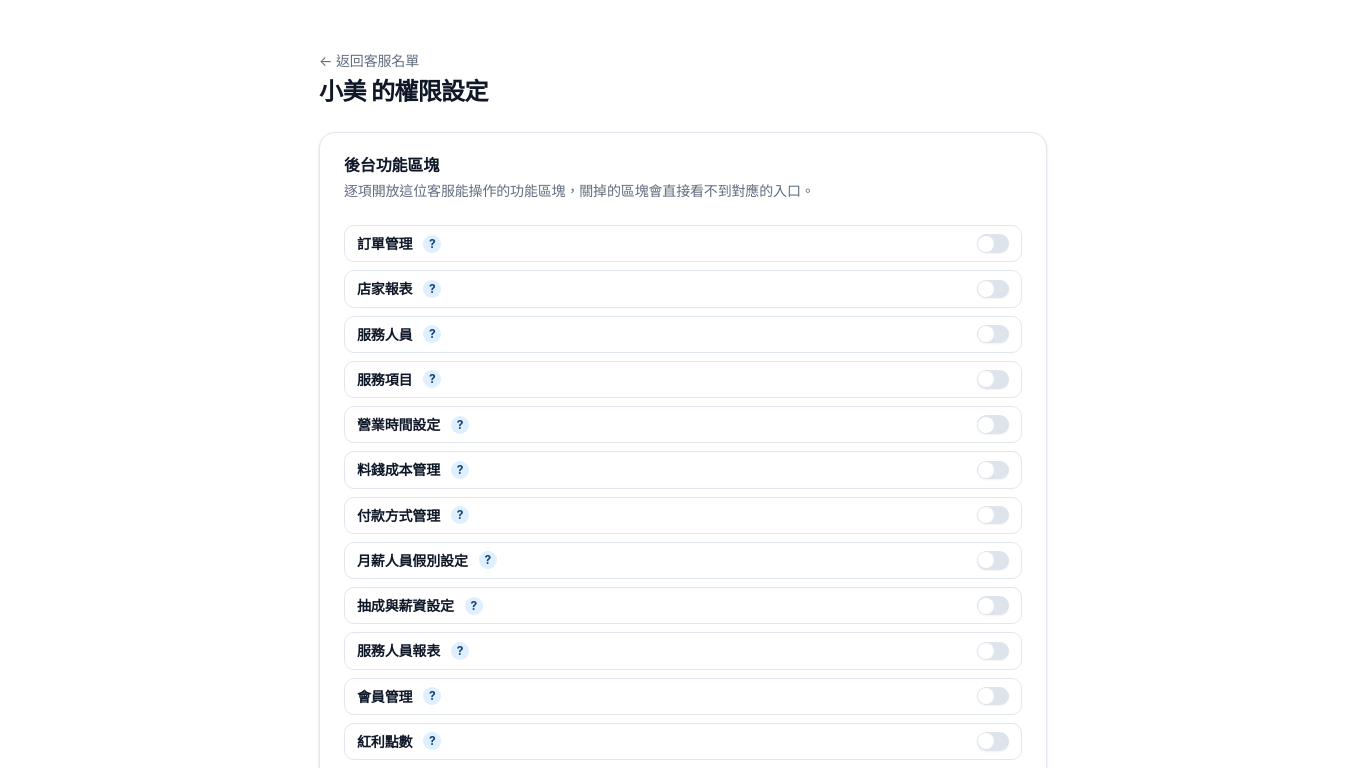
Test: 第 11 批 E:相依權限小卡窗 › ② 按「取消」⇒ 小卡窗關、三個開關都關、API 沒被呼叫;按 Esc 同結果
Click the switch named "料錢成本管理" in the row of "料錢成本管理". click: (993, 470)
box: [977,461,1009,479]
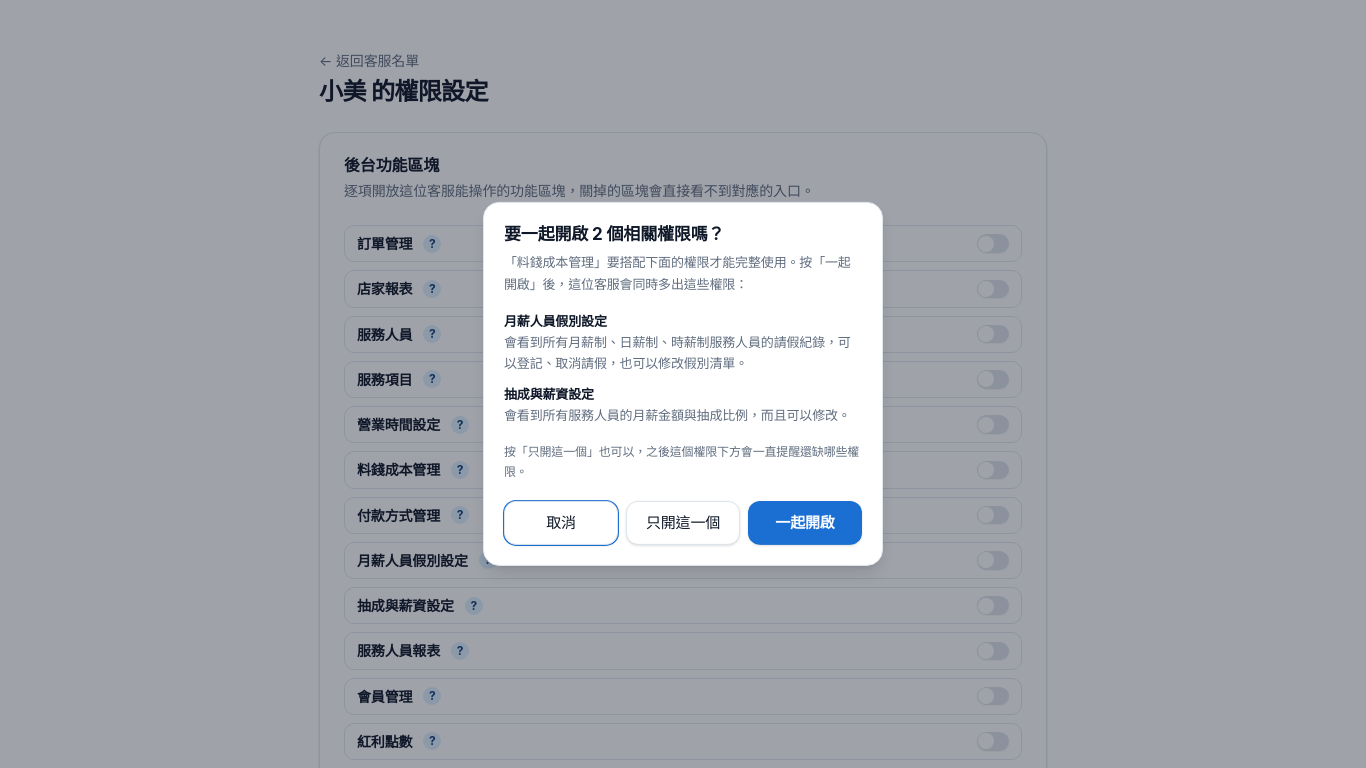
Click the button "取消". click: (561, 523)
box: [504,501,618,545]
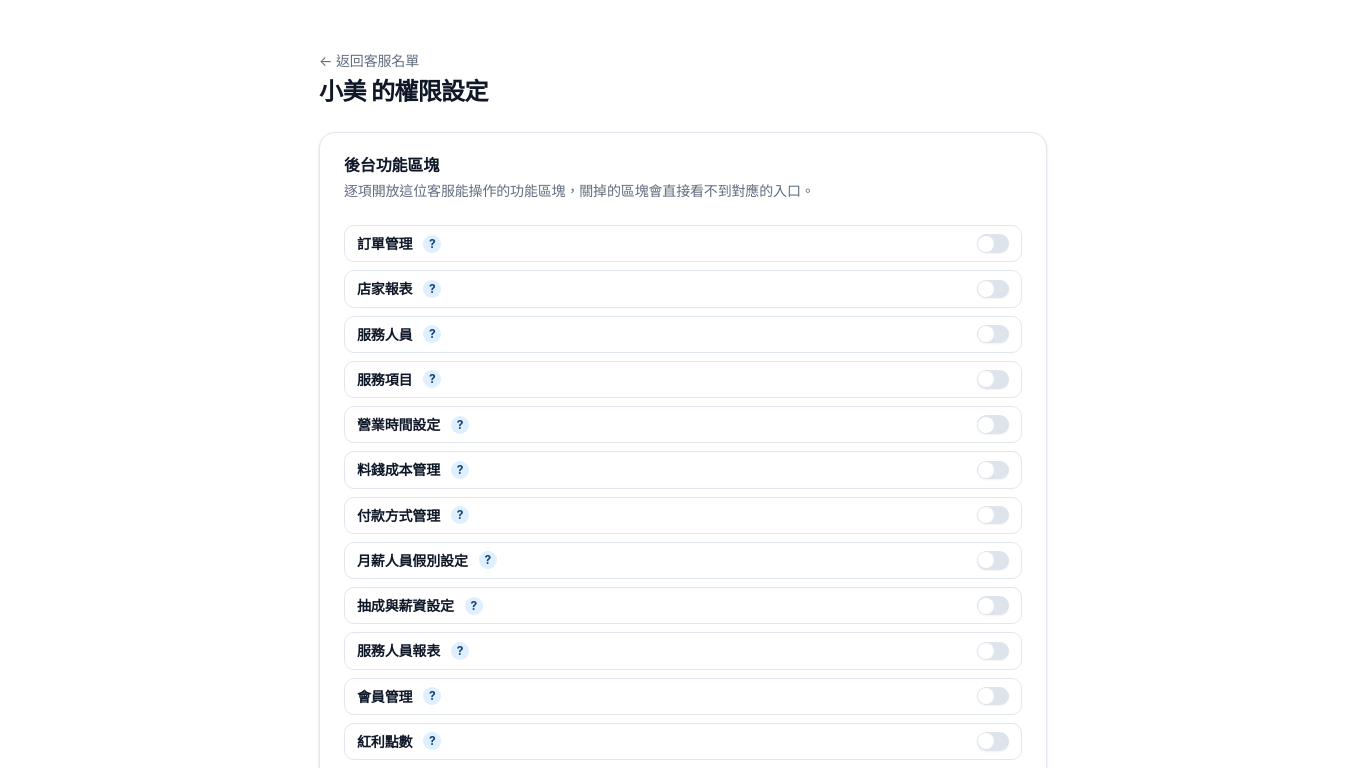
Now the dialog with test id "agent-permission-dependency-confirm" is gone
Click the switch named "料錢成本管理" in the row of "料錢成本管理". click: (993, 470)
box: [977,461,1009,479]
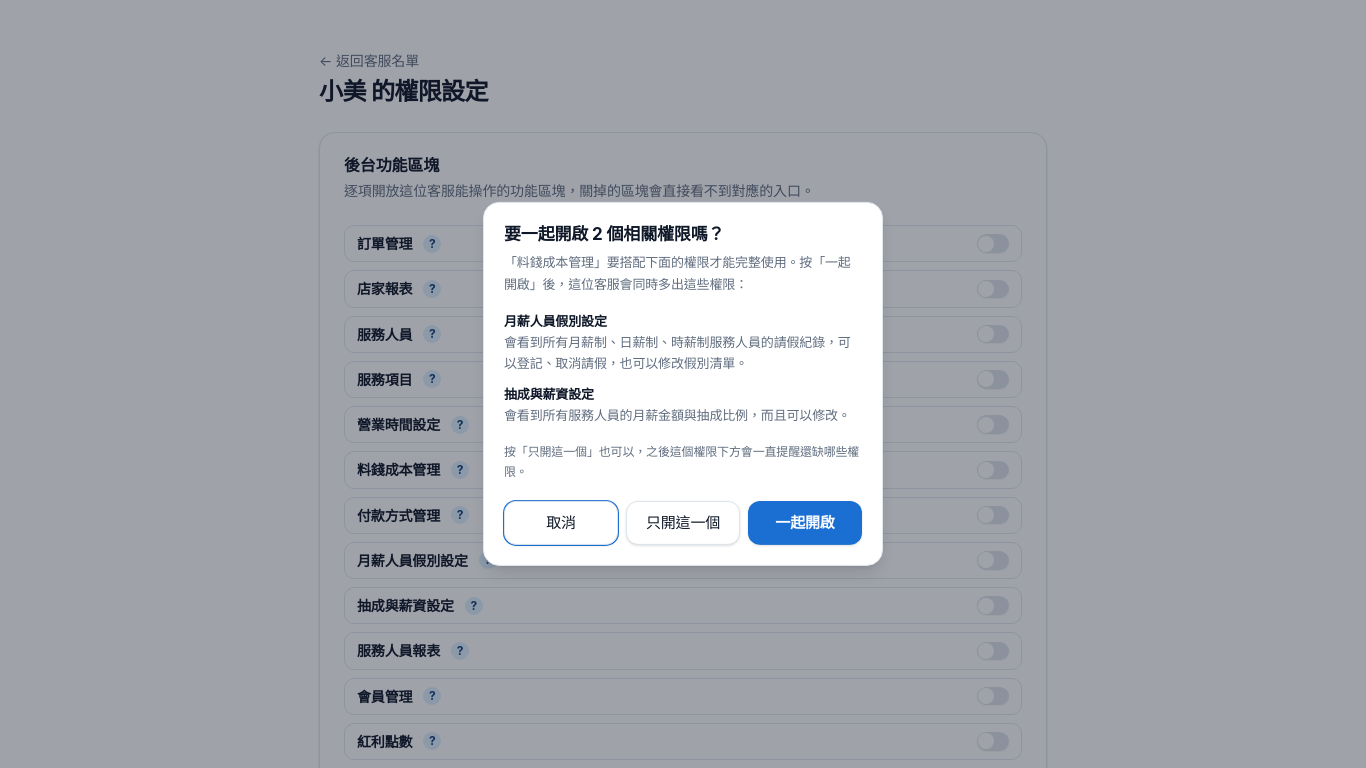
Now the dialog with test id "agent-permission-dependency-confirm" is shown, box [483,202,883,566]
Press Escape
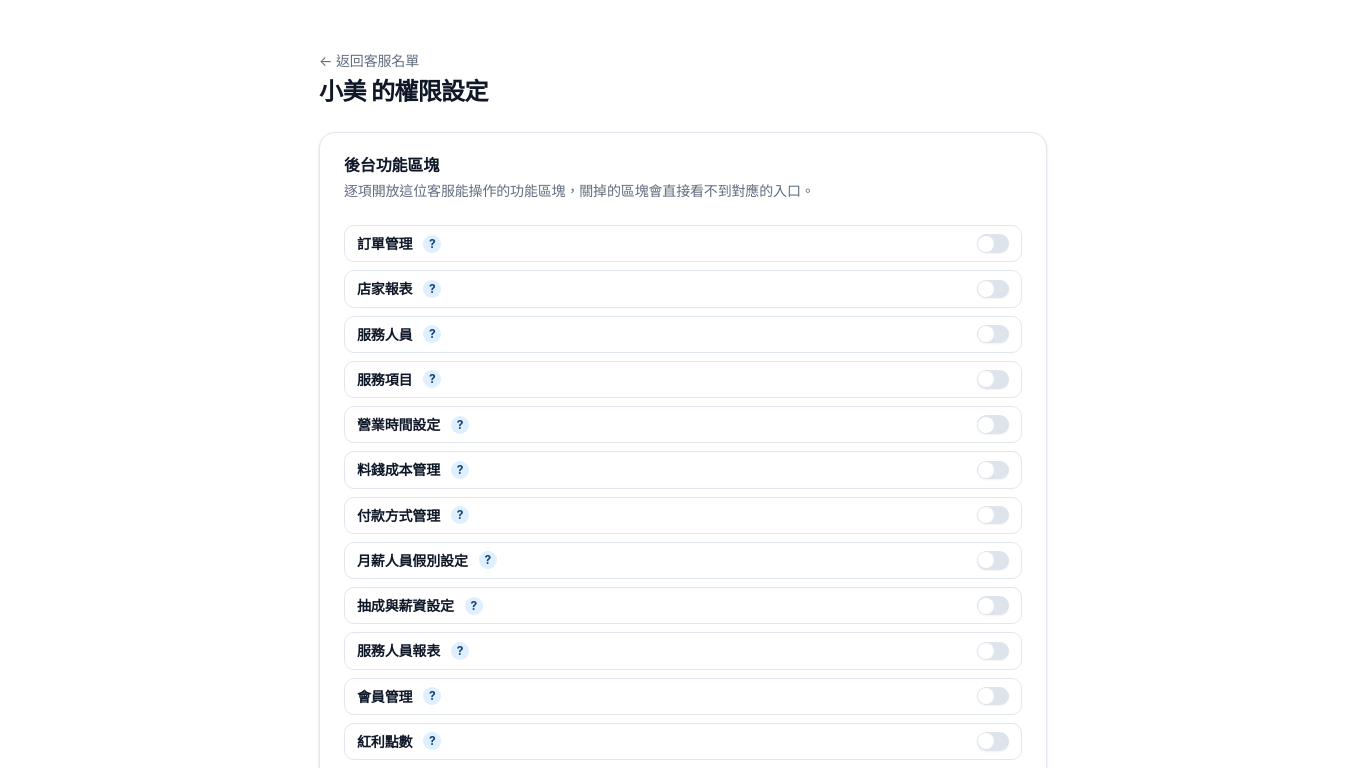
Now the dialog with test id "agent-permission-dependency-confirm" is gone
